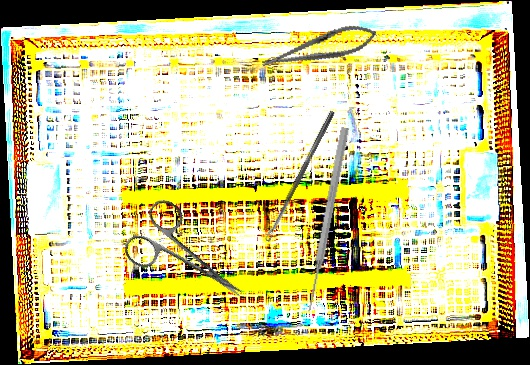Iris Scissors: (118, 194, 261, 326)
Needle Holder: (258, 18, 380, 78)
Pusher: (303, 126, 351, 314)
Surgical Spoon: (263, 110, 336, 242)
